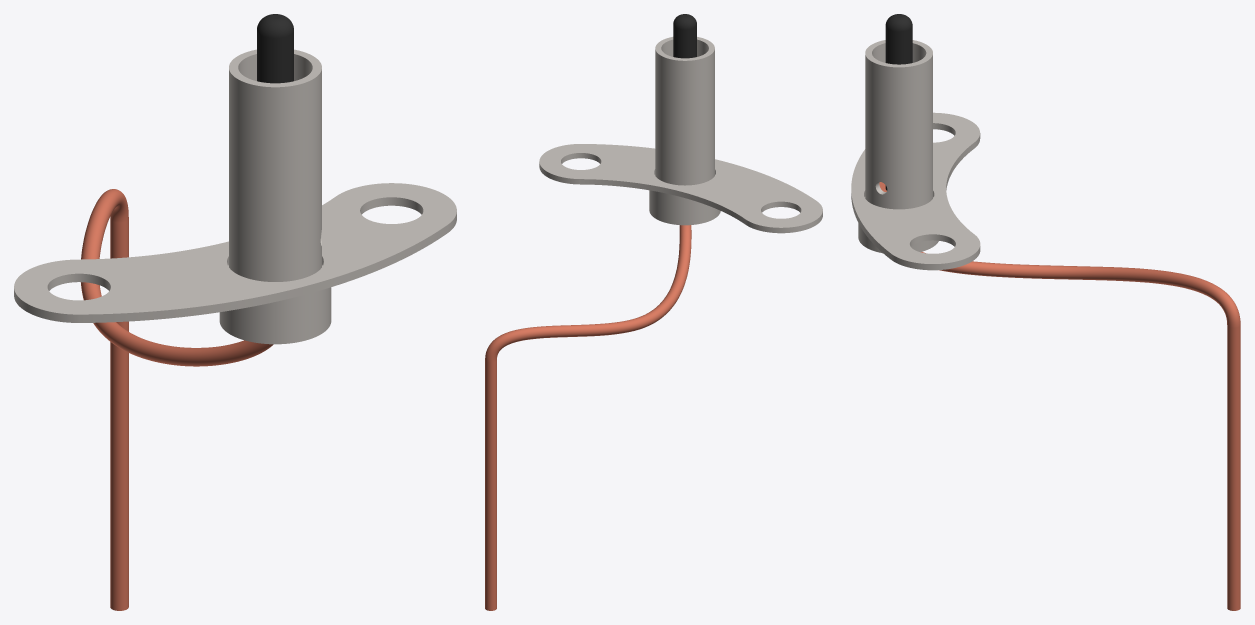
The model's file is modal12.fbx.
3 renders of one model, left to right at view 1: azimuth 30°, elevation 25°; view 2: azimuth 150°, elevation 25°; view 3: azimuth 270°, elevation 25°, orthographic. The views are drawn at different scales.
Parts seen in each view (by area): view 1: 切除-拉伸2, 凸台-拉伸1, 扫描1, 切除-拉伸1; view 2: 凸台-拉伸1, 切除-拉伸2, 扫描1, 切除-拉伸1; view 3: 切除-拉伸2, 凸台-拉伸1, 扫描1, 切除-拉伸1.
Boxes of the visible parts, left/top/right/bottom form: 切除-拉伸2: left=219, top=49, right=331, bottom=344; 凸台-拉伸1: left=14, top=183, right=456, bottom=322; 扫描1: left=80, top=189, right=273, bottom=610; 切除-拉伸1: left=257, top=14, right=293, bottom=83; 凸台-拉伸1: left=539, top=144, right=822, bottom=233; 切除-拉伸2: left=649, top=37, right=720, bottom=225; 扫描1: left=485, top=225, right=691, bottom=610; 切除-拉伸1: left=673, top=14, right=696, bottom=58; 切除-拉伸2: left=858, top=40, right=938, bottom=253; 凸台-拉伸1: left=851, top=112, right=980, bottom=270; 扫描1: left=921, top=252, right=1240, bottom=610; 切除-拉伸1: left=885, top=14, right=912, bottom=190.
Bounding box in the file's own units: 2.64 × 4.6 × 2.87.
